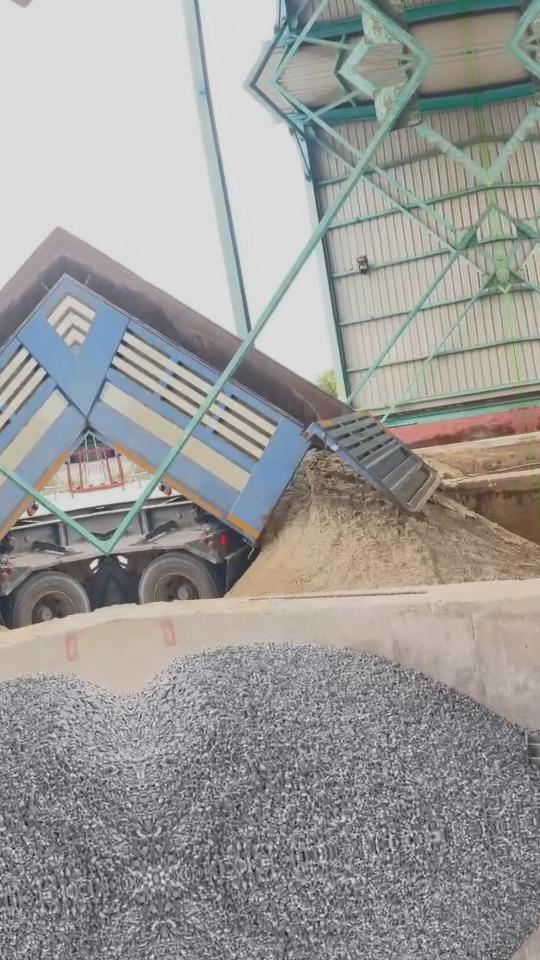gravel: (129, 644, 540, 878)
sand: (230, 452, 540, 596), (430, 461, 464, 478)
